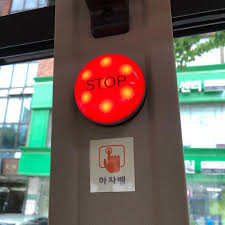bell: (72, 52, 150, 127)
